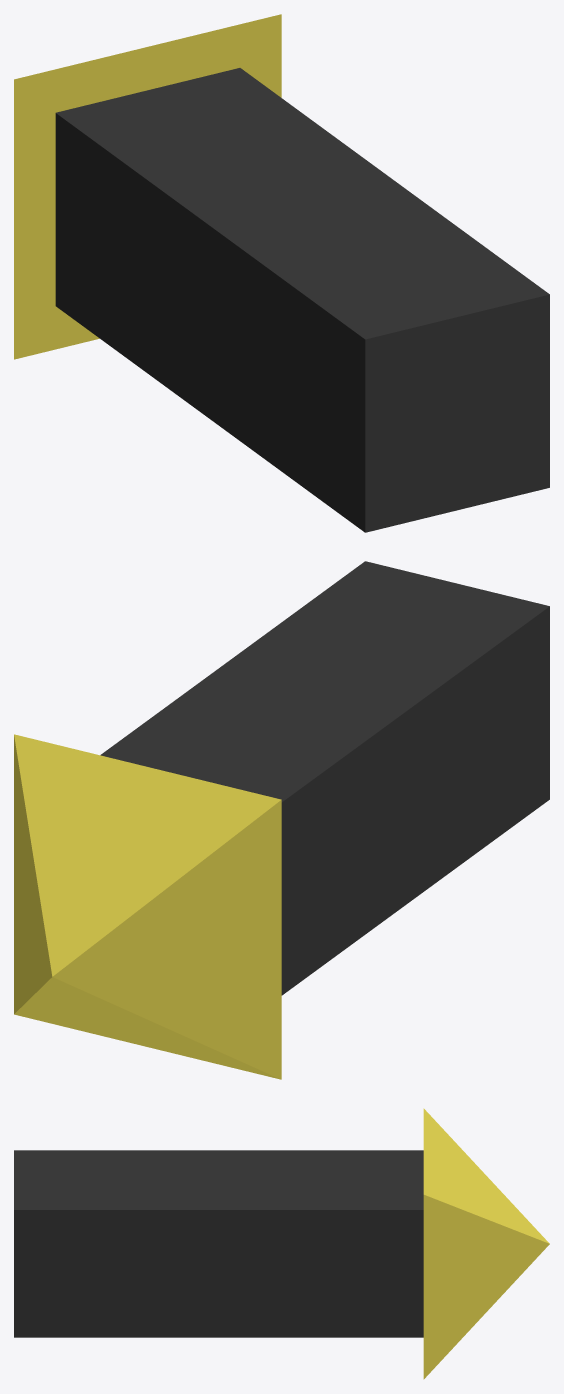
File: projectile.fbx
3 renders of one model, top to bottom at view 1: azimuth 30°, elevation 25°; view 2: azimuth 150°, elevation 25°; view 3: azimuth 270°, elevation 25°, orthographic. The views are drawn at different scales.
Parts seen in each view (by area): view 1: Cube.001; view 2: Cube.001; view 3: Cube.001.
Boxes of the visible parts, box(x1,y1,x2,y2) form: Cube.001: box(14, 14, 549, 532); Cube.001: box(14, 561, 549, 1079); Cube.001: box(14, 1108, 549, 1379).
Bounding box in the file's own units: 42.62 × 42.62 × 112.
